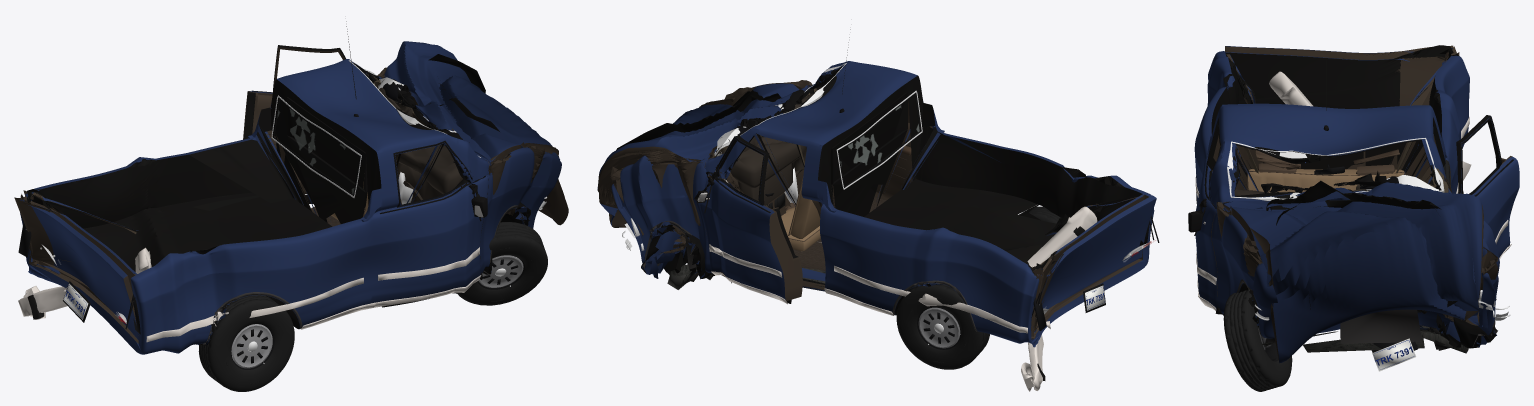
File: pickup87_front_d3_lod1.glb
3 views of the same model, side by side, from view 1: azimuth 30°, elevation 25°; view 2: azimuth 150°, elevation 25°; view 3: azimuth 270°, elevation 25° (orthographic). The views are drawn at different scales.
Visible parts, largest first — view 1: Body, Hood, Wheel_RR_mesh, Tailgate, Door_FR, Wheel_FR_mesh, Interior, Trim, Trim_FR, Glass, Bumper_R, Door_FL (+1 smaller); view 2: Body, Door_FL, Hood, Tailgate, Wheel_RL_mesh, Interior, Trim, Bumper_R, Glass, Trim_FL, Ends, Door_FR (+1 smaller); view 3: Body, Hood, Wheel_FR_mesh, Interior, Door_FL, Engine, Glass, Underbody, Tailgate, Ends, Door_FR, Trim (+3 smaller).
Boxes of the visible parts, bbox=[...] form: Body: bbox=[20, 59, 561, 354]; Hood: bbox=[378, 41, 568, 225]; Wheel_RR_mesh: bbox=[198, 295, 294, 391]; Tailgate: bbox=[14, 197, 138, 339]; Door_FR: bbox=[374, 142, 488, 302]; Wheel_FR_mesh: bbox=[457, 222, 547, 305]; Interior: bbox=[331, 83, 461, 220]; Trim: bbox=[146, 21, 526, 344]; Trim_FR: bbox=[374, 140, 487, 307]; Glass: bbox=[271, 60, 480, 197]; Bumper_R: bbox=[18, 247, 151, 319]; Door_FL: bbox=[243, 45, 345, 193]; Body: bbox=[610, 61, 1154, 347]; Door_FL: bbox=[700, 135, 802, 300]; Hood: bbox=[597, 83, 809, 227]; Tailgate: bbox=[1033, 195, 1156, 331]; Wheel_RL_mesh: bbox=[896, 284, 989, 369]; Interior: bbox=[730, 93, 820, 251]; Trim: bbox=[642, 29, 1034, 333]; Bumper_R: bbox=[1021, 206, 1097, 391]; Glass: bbox=[714, 63, 922, 189]; Trim_FL: bbox=[694, 137, 791, 304]; Ends: bbox=[622, 215, 1159, 330]; Door_FR: bbox=[875, 121, 932, 198]; Body: bbox=[1194, 45, 1499, 348]; Hood: bbox=[1222, 180, 1483, 363]; Wheel_FR_mesh: bbox=[1223, 289, 1292, 391]; Interior: bbox=[1234, 149, 1405, 195]; Door_FL: bbox=[1456, 115, 1519, 257]; Engine: bbox=[1340, 309, 1421, 343]; Glass: bbox=[1227, 138, 1444, 200]; Underbody: bbox=[1262, 326, 1468, 353]; Tailgate: bbox=[1225, 45, 1453, 59]; Ends: bbox=[1254, 290, 1510, 371]; Door_FR: bbox=[1195, 117, 1219, 308]; Trim: bbox=[1195, 60, 1497, 346].
Size of the model in its own units: 4.26 by 2.58 by 2.49.
Materials: 33 (5 with a texture image).
